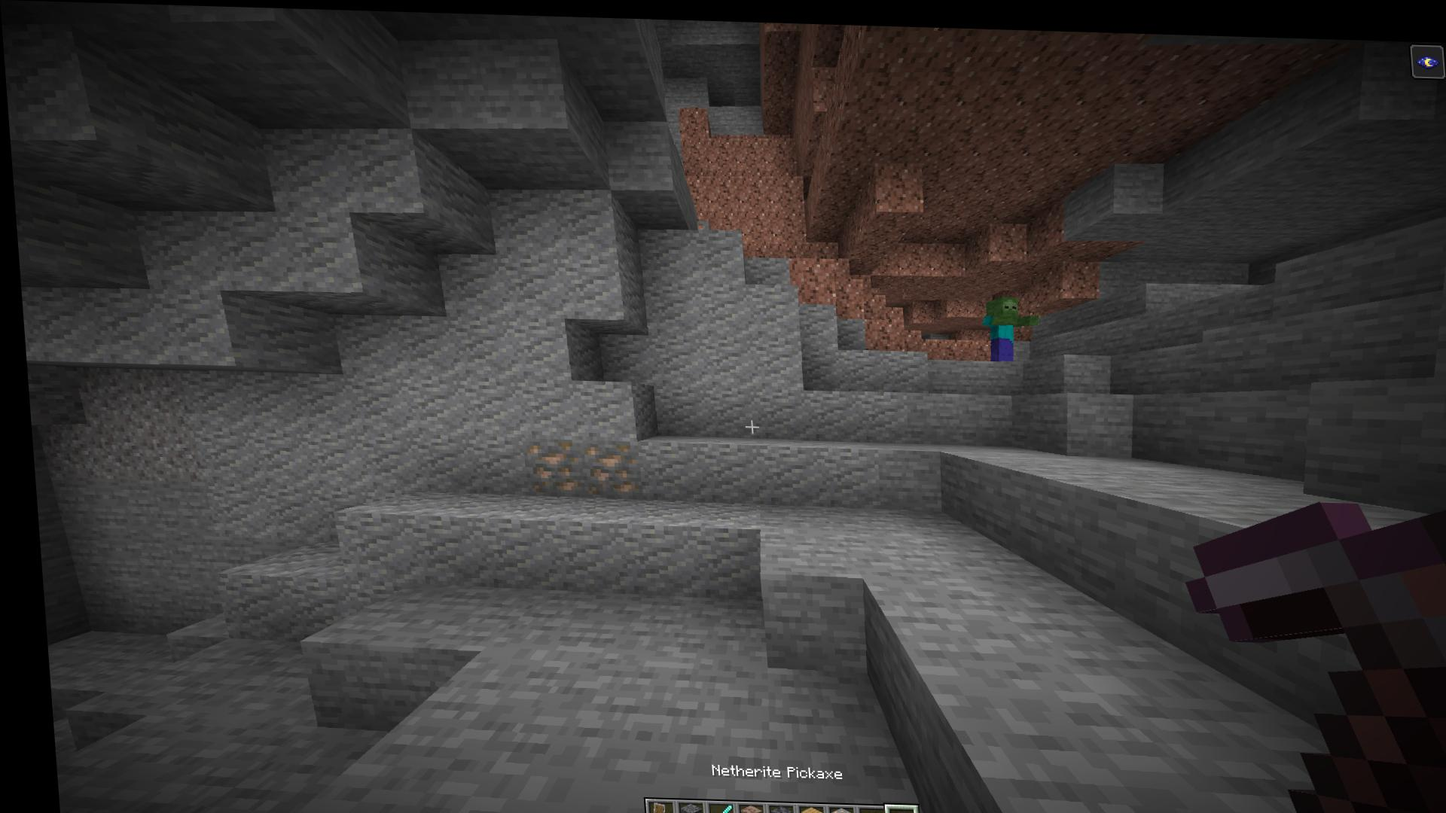iron ore: (517, 434, 575, 492), (577, 437, 628, 491)
